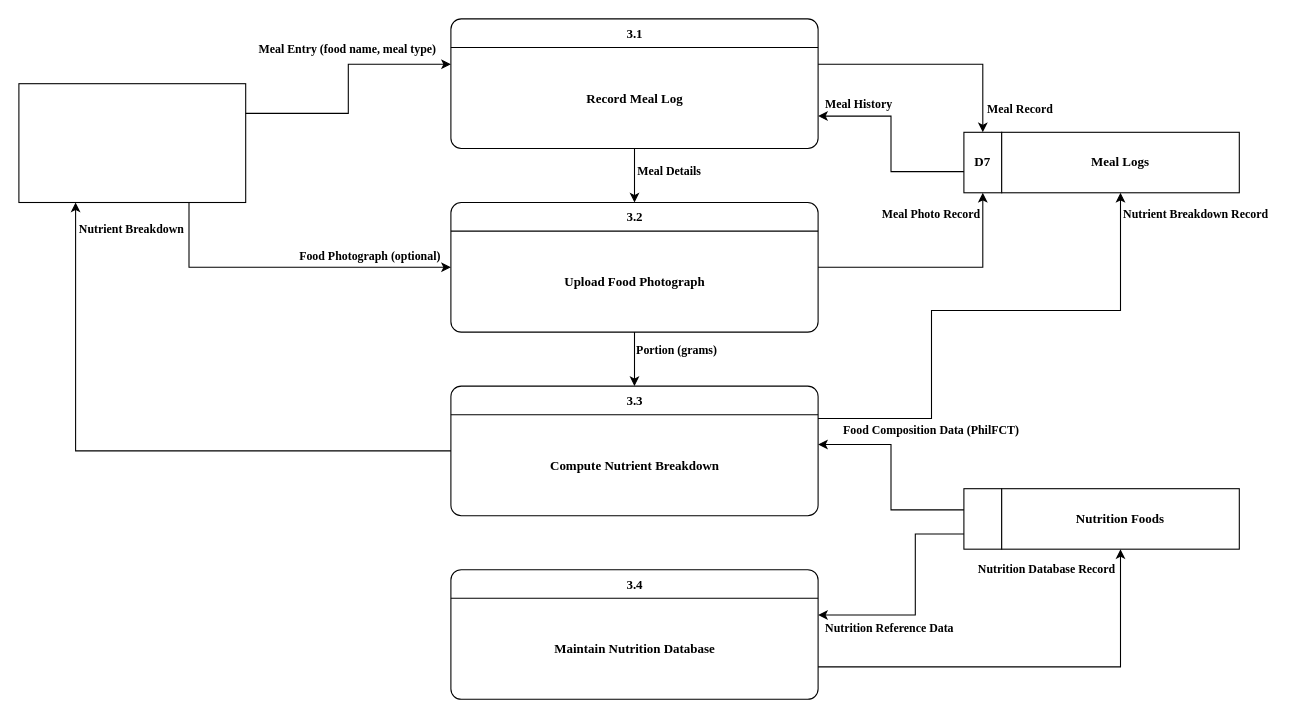
Image size: 1301x718. Some labels were removed from this diagram. The shapes that lost their labels are listed below. From the top down, each one's centre as x and y in pixels, then its label:
pixel 132 142: MEMBER
pixel 982 518: D8
